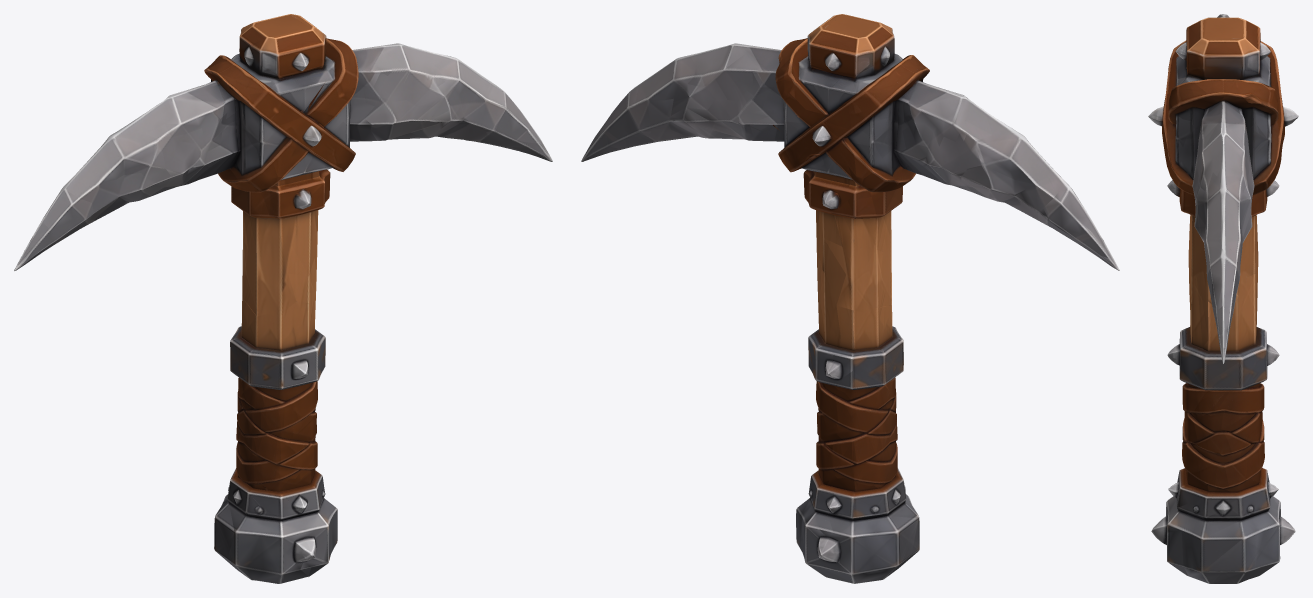
The model's file is Pickaxe_Standard.fbx.
The picture shows the model from 3 angles, left to right: view 1: azimuth 30°, elevation 25°; view 2: azimuth 150°, elevation 25°; view 3: azimuth 270°, elevation 25°; orthographic projection.
Parts seen in each view (by area): view 1: output_unwrapped; view 2: output_unwrapped; view 3: output_unwrapped.
Boxes of the visible parts, x1=… form: output_unwrapped: x1=14, y1=14, x2=552, y2=583; output_unwrapped: x1=581, y1=14, x2=1119, y2=583; output_unwrapped: x1=1148, y1=14, x2=1298, y2=583.
Size of the model in its own units: 190 by 182 by 45.72.
Materials: 1 (1 with a texture image).
